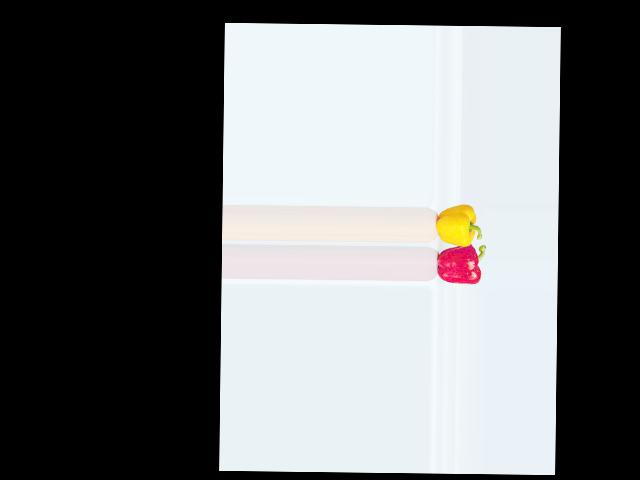bell_pepper: (431, 243, 484, 288)
